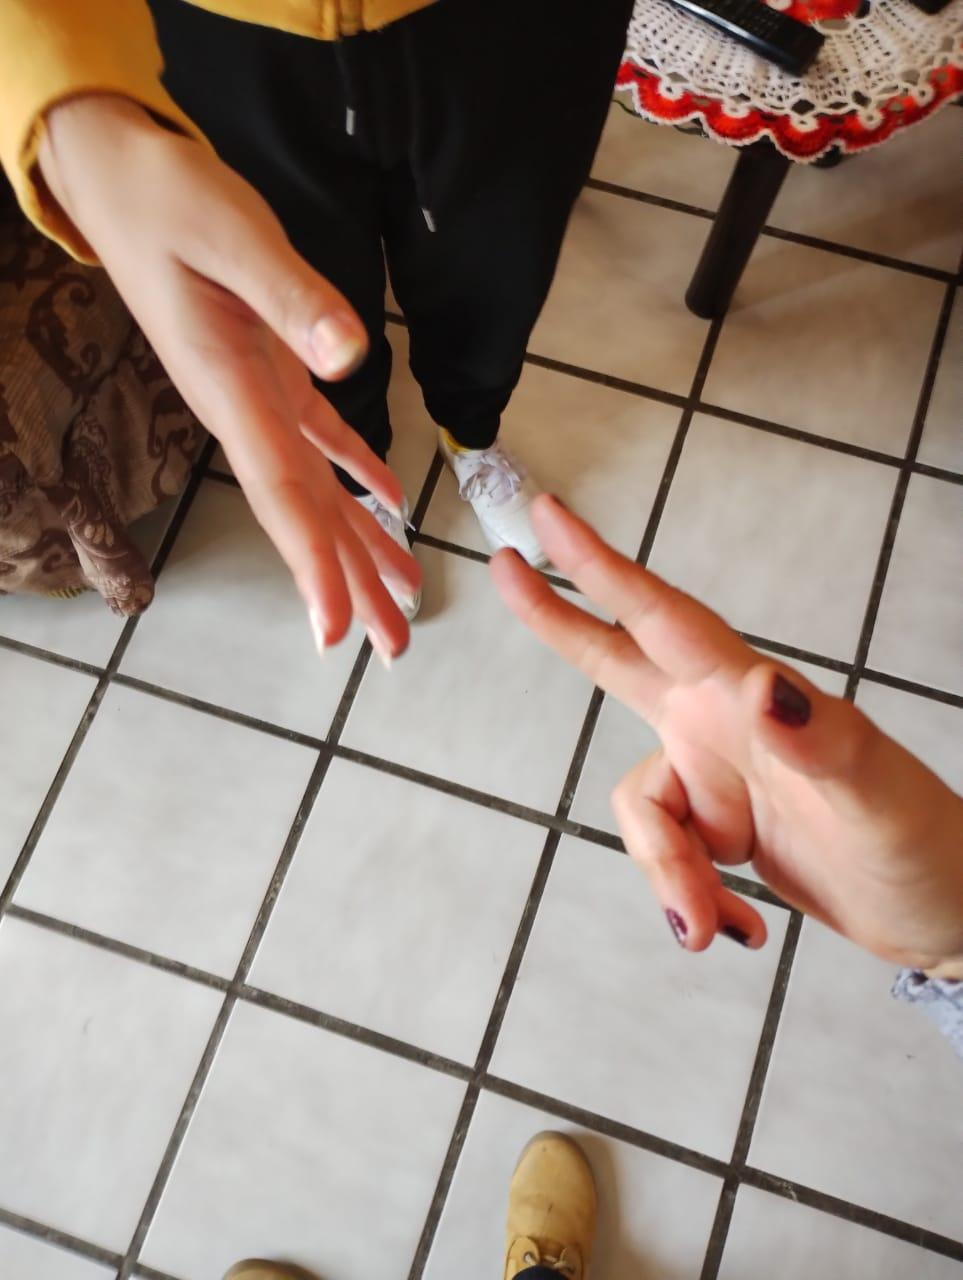Paper: (3, 100, 473, 680)
Scissor: (459, 473, 963, 1036)
